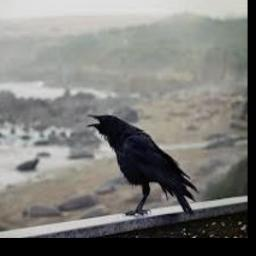Crow: (85, 112, 200, 218)
